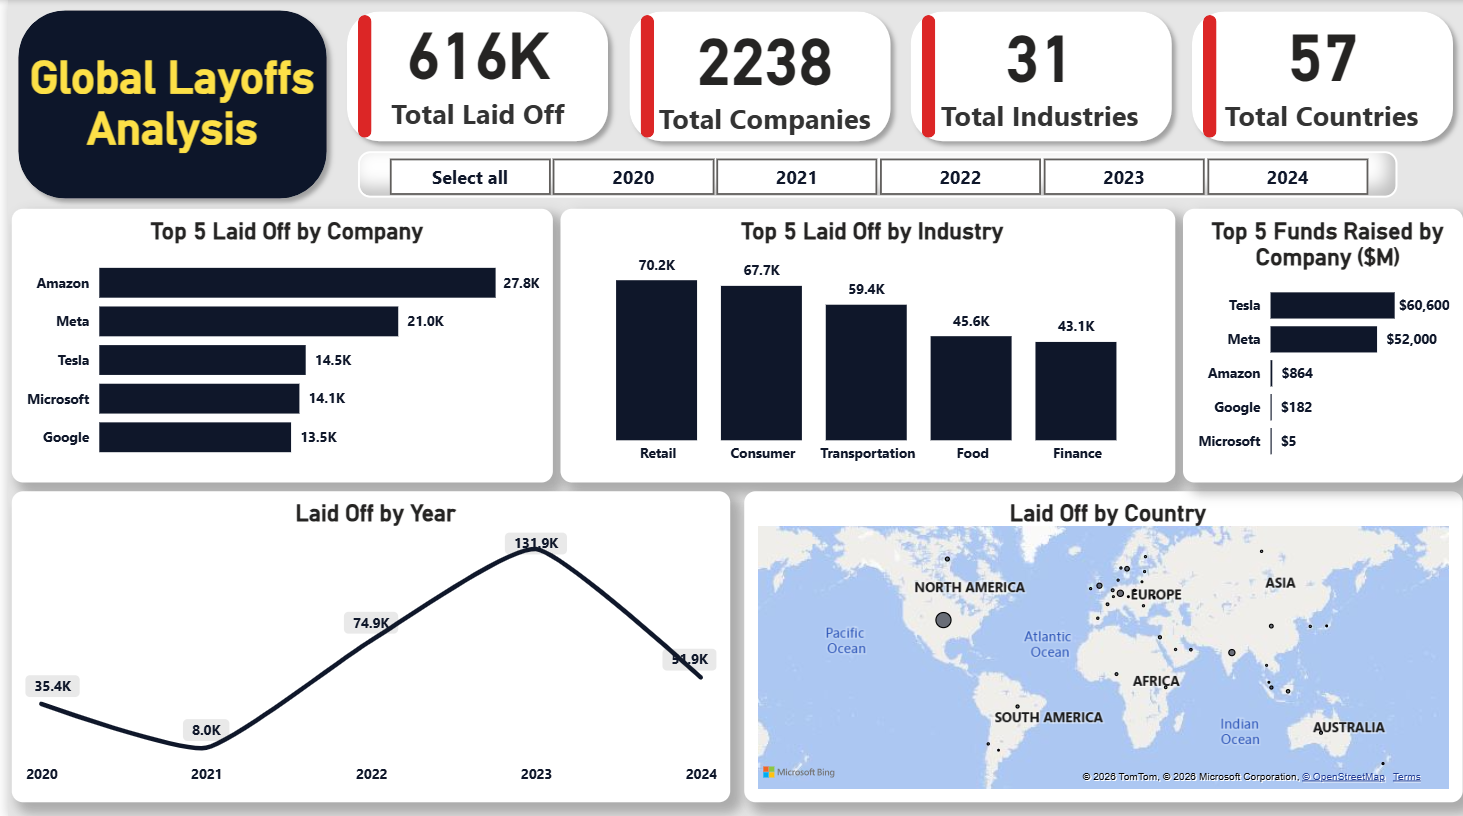

The page's visual inventory and layout, read from the dashboard file:
{"tool":"powerbi","page":{"name":"Overview","canvas":[1280,720],"ordinal":0},"visuals":[{"type":"group","id":"g1","title":"Group 3","box":[289.3,1,990.6,132.1],"z":0},{"type":"group","id":"g2","title":"Group 1","box":[289.3,1,248.6,132.1],"z":0,"group":"g1"},{"type":"shape","box":[289.3,1,247.6,132.1],"z":0,"group":"g2"},{"type":"shape","box":[537.9,1,247.6,132.1],"z":0,"group":"g3"},{"type":"shape","box":[785.2,1,247.6,132.1],"z":0,"group":"g4"},{"type":"shape","box":[1032.6,1,247.6,132.1],"z":0,"group":"g5"},{"type":"shape","box":[0,0,289.4,183.7],"z":1000},{"type":"group","id":"g3","title":"Group 1","box":[537.9,1,247.4,132.1],"z":1000,"group":"g1"},{"type":"group","id":"g4","title":"Group 1","box":[785.2,1,247.4,132.1],"z":2000,"group":"g1"},{"type":"textbox","title":"Global Layoffs Analysis","box":[0,45.6,289.4,120.1],"z":2000},{"type":"group","id":"g5","title":"Group 1","box":[1032.6,1,247.4,132.1],"z":3000,"group":"g1"},{"type":"clusteredBarChart","title":"Top 5 Laid Off by Company","fields":{"Y":["Measures (2).Total Laid Off"],"Category":["layoffs_data.Company"]},"box":[3.6,183.3,476.2,240.5],"z":3000},{"type":"shape","box":[308.2,13.1,12,108.1],"z":3002,"group":"g2"},{"type":"shape","box":[556.8,13.1,12,108.1],"z":3002,"group":"g3"},{"type":"shape","box":[804.1,13.1,12,108.1],"z":3002,"group":"g4"},{"type":"shape","box":[1051.5,13.1,12,108.1],"z":3002,"group":"g5"},{"type":"card","fields":{"Values":["Measures (2).Total Laid Off"]},"box":[296.4,0,233.3,116.7],"z":4000},{"type":"columnChart","title":"Top 5 Laid Off by Industry","fields":{"Category":["layoffs_data.Industry"],"Y":["Measures (2).Total Laid Off"]},"box":[486.3,183.3,540.5,240.5],"z":5000},{"type":"card","fields":{"Values":["Measures (2).Total Companies"]},"box":[550,0,232.1,126.2],"z":6000},{"type":"lineChart","title":"Laid Off by Year","fields":{"Y":["Measures (2).Total Laid Off"],"Category":["layoffs_data.Year"]},"box":[3.6,432.1,632.1,273.8],"z":7000},{"type":"card","fields":{"Values":["Measures (2).Total Industries"]},"box":[792.1,0,232.1,121.4],"z":8000},{"type":"map","title":"Laid Off by Country","fields":{"Size":["Measures (2).Total Laid Off"],"Category":["layoffs_data.Country"]},"box":[647.6,432.1,632.1,273.8],"z":9000},{"type":"card","fields":{"Values":["Measures (2).Total Countries"]},"box":[1039.3,0,233.3,120.2],"z":10000},{"type":"clusteredBarChart","title":"Top 5 Funds Raised by Company ($M)","fields":{"Category":["layoffs_data.Company"],"Y":["Measures (2).Total Funds Raised"]},"box":[1033.3,183.3,246.4,240.5],"z":11000},{"type":"slicer","fields":{"Values":["layoffs_data.Year"]},"box":[308.3,133.3,914.3,40.5],"z":12000}]}

Visuals, with their boxes in screenshot pixels (x1, y1, x2, y2), scaled from the page's 1280x720 canvas onto the 1463x816 screenshot:
"Group 3" group: {"x1": 331, "y1": 1, "x2": 1462, "y2": 151}
"Group 1" group: {"x1": 331, "y1": 1, "x2": 615, "y2": 151}
shape: {"x1": 331, "y1": 1, "x2": 614, "y2": 151}
shape: {"x1": 615, "y1": 1, "x2": 898, "y2": 151}
shape: {"x1": 897, "y1": 1, "x2": 1180, "y2": 151}
shape: {"x1": 1180, "y1": 1, "x2": 1462, "y2": 151}
shape: {"x1": 0, "y1": 0, "x2": 331, "y2": 208}
"Group 1" group: {"x1": 615, "y1": 1, "x2": 898, "y2": 151}
"Group 1" group: {"x1": 897, "y1": 1, "x2": 1180, "y2": 151}
"Global Layoffs Analysis" textbox: {"x1": 0, "y1": 52, "x2": 331, "y2": 188}
"Group 1" group: {"x1": 1180, "y1": 1, "x2": 1462, "y2": 151}
"Top 5 Laid Off by Company" clusteredBarChart: {"x1": 4, "y1": 208, "x2": 548, "y2": 480}
shape: {"x1": 352, "y1": 15, "x2": 366, "y2": 137}
shape: {"x1": 636, "y1": 15, "x2": 650, "y2": 137}
shape: {"x1": 919, "y1": 15, "x2": 933, "y2": 137}
shape: {"x1": 1202, "y1": 15, "x2": 1216, "y2": 137}
card - Measures (2).Total Laid Off: {"x1": 339, "y1": 0, "x2": 605, "y2": 132}
"Top 5 Laid Off by Industry" columnChart: {"x1": 556, "y1": 208, "x2": 1174, "y2": 480}
card - Measures (2).Total Companies: {"x1": 629, "y1": 0, "x2": 894, "y2": 143}
"Laid Off by Year" lineChart: {"x1": 4, "y1": 490, "x2": 727, "y2": 800}
card - Measures (2).Total Industries: {"x1": 905, "y1": 0, "x2": 1171, "y2": 138}
"Laid Off by Country" map: {"x1": 740, "y1": 490, "x2": 1462, "y2": 800}
card - Measures (2).Total Countries: {"x1": 1188, "y1": 0, "x2": 1455, "y2": 136}
"Top 5 Funds Raised by Company ($M)" clusteredBarChart: {"x1": 1181, "y1": 208, "x2": 1462, "y2": 480}
slicer - layoffs_data.Year: {"x1": 352, "y1": 151, "x2": 1397, "y2": 197}
